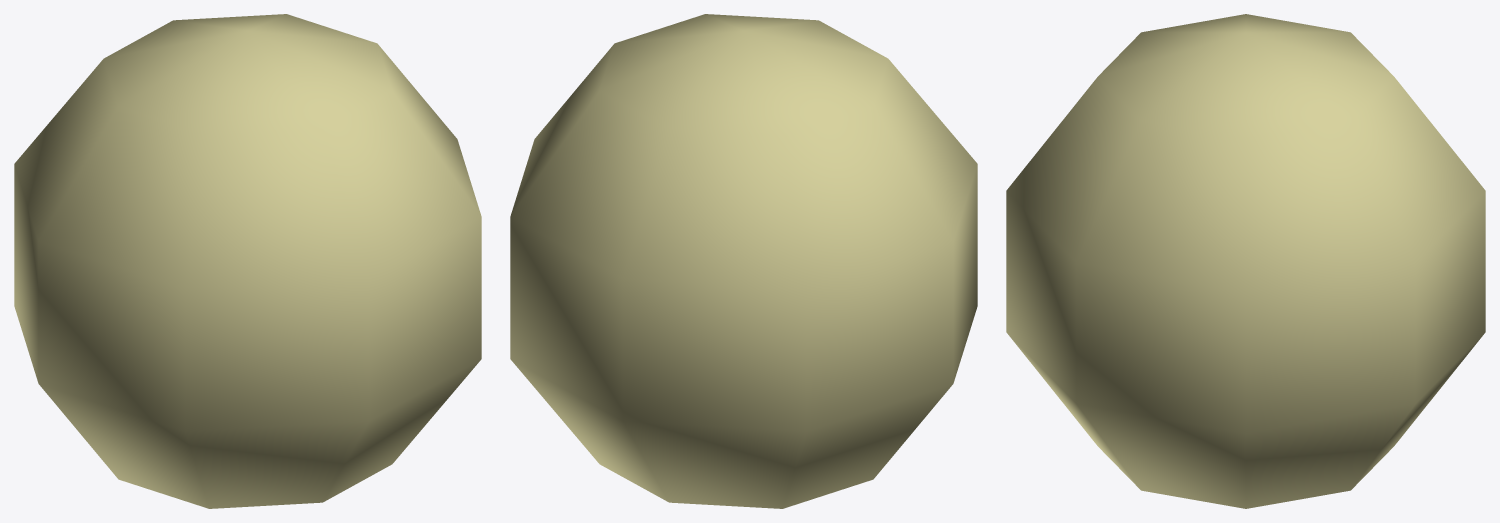
The model's file is cauliflower_seed.fbx.
The picture shows the model from 3 angles, left to right: view 1: azimuth 30°, elevation 25°; view 2: azimuth 150°, elevation 25°; view 3: azimuth 270°, elevation 25°; orthographic projection.
Visible parts, largest first — view 1: Sphere; view 2: Sphere; view 3: Sphere.
Boxes of the visible parts, x1,y1,x2,y2 form: Sphere: (14,14,481,508); Sphere: (510,14,977,508); Sphere: (1006,14,1485,508).
Bounding box in the file's own units: 19.02 × 20 × 19.02.
